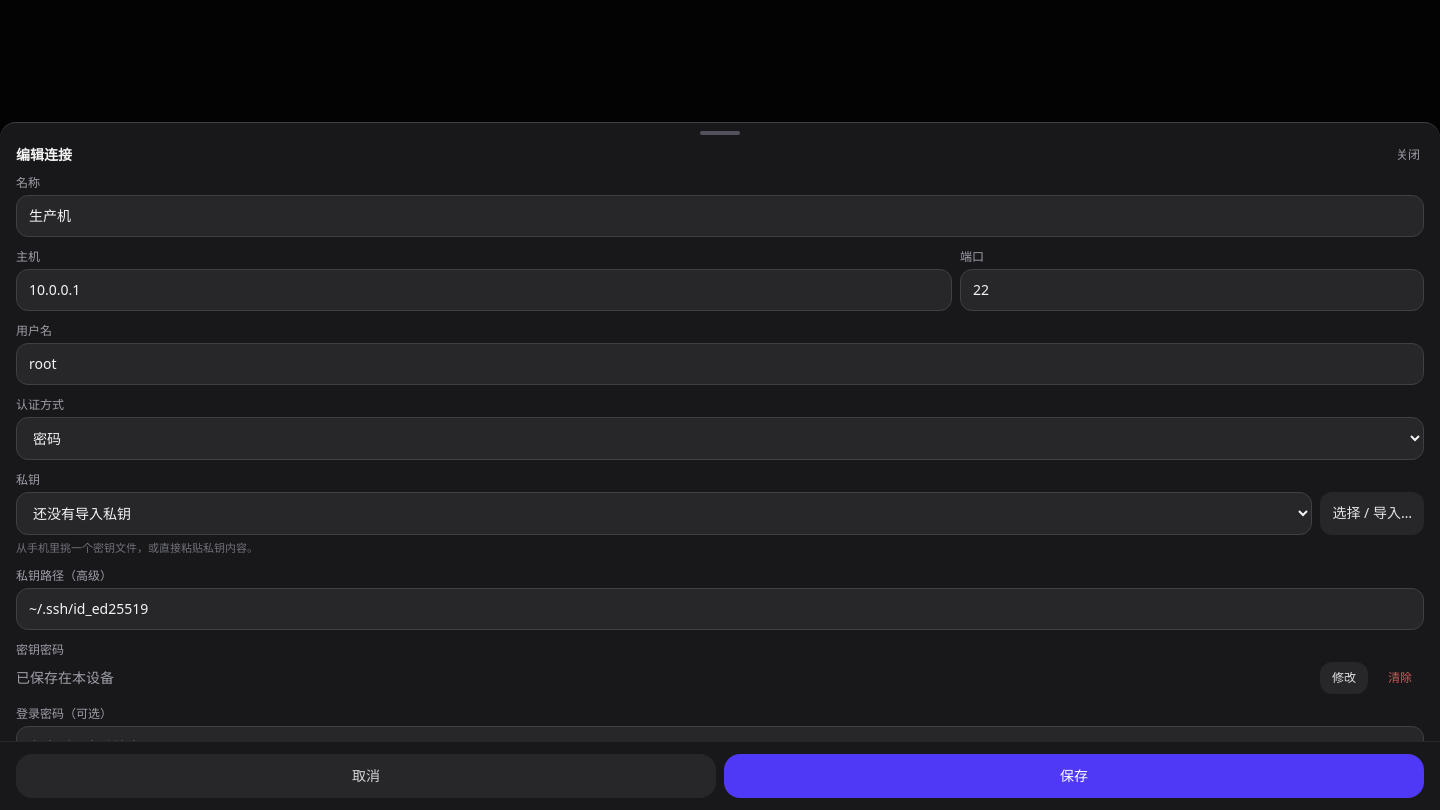
Test: 切换认证方式后的「已保存 / 清除」 › 密钥密码已存、密码未存：改成密码认证后不再声称密码已保存
This screenshot has width=1440, height=810.
Select "密码" in the dropdown below "认证方式" at (720, 438), box [16, 416, 1424, 460]
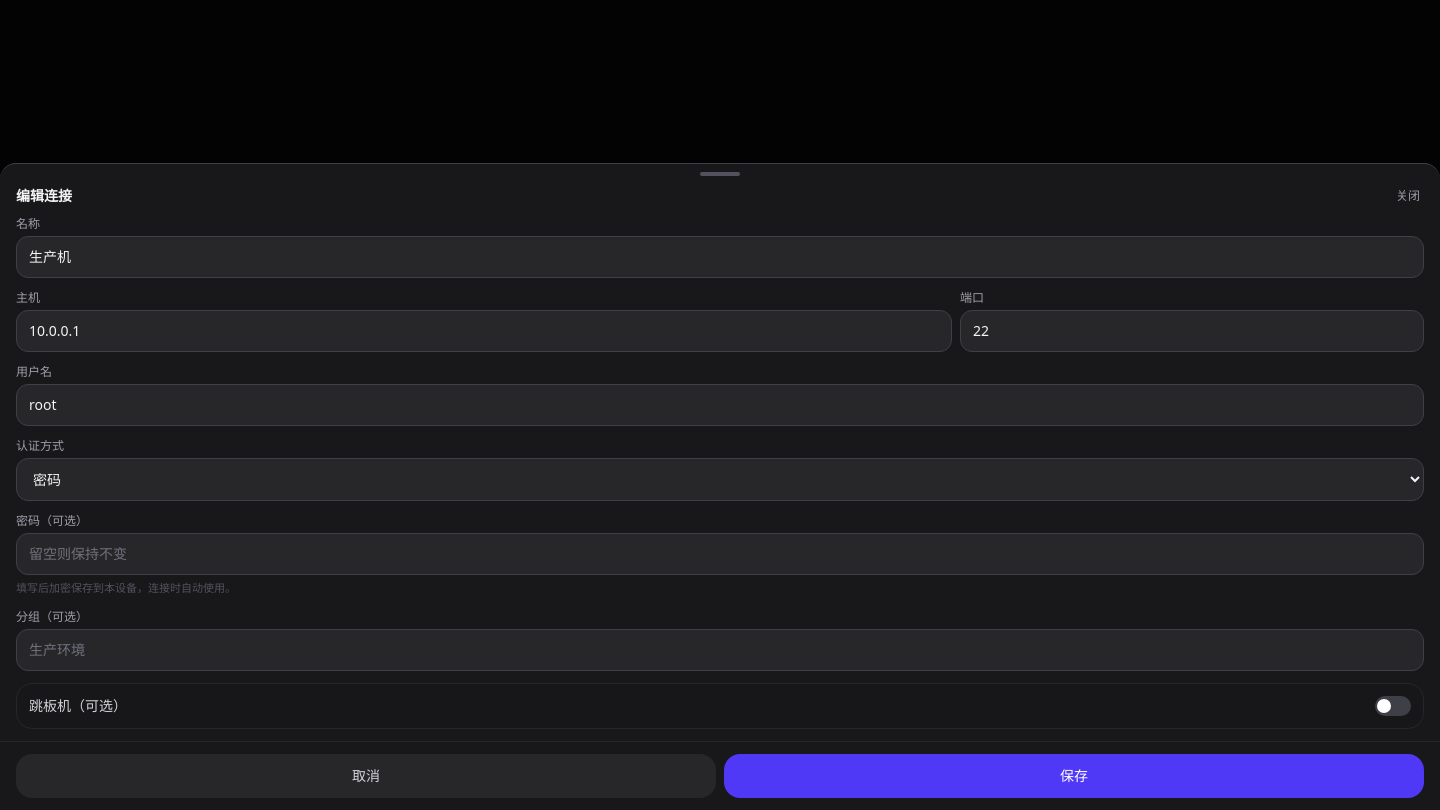
Expected: the password field with placeholder "留空则保持不变" is shown, [16, 533, 1424, 575]
Result: the text "已保存在本设备" is gone
